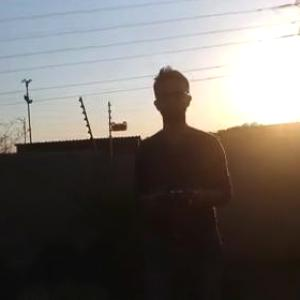follow: (130, 61, 242, 299)
